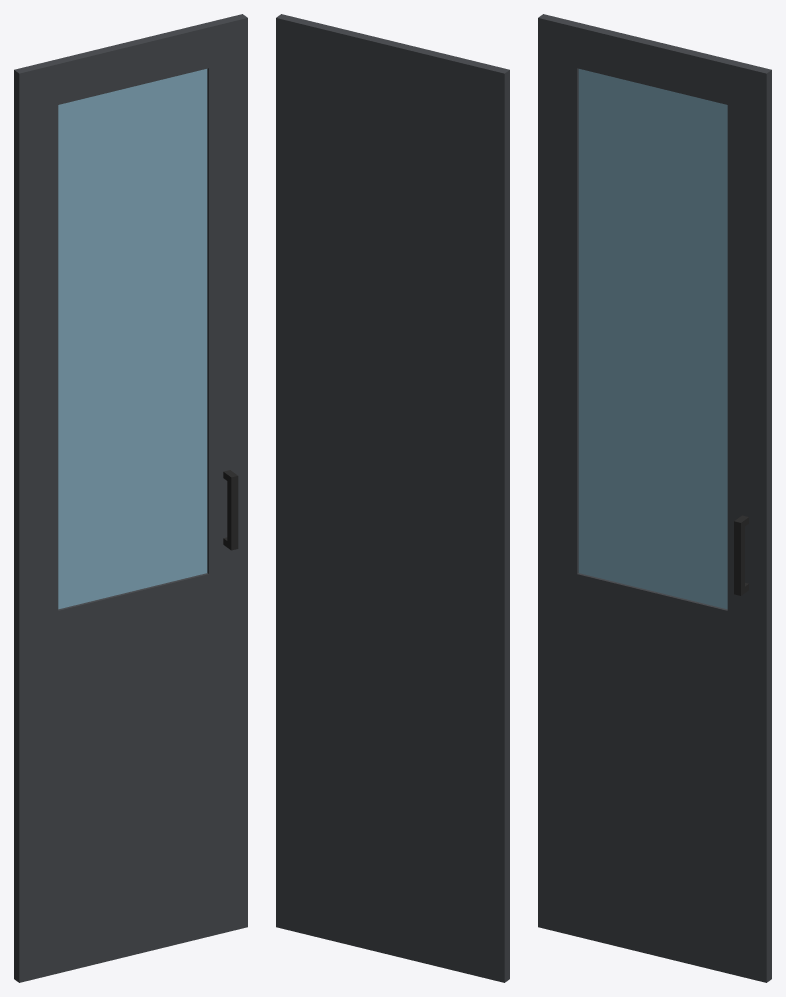
Rendered from Wardrobe1_C2_05.fbx.
3 views of the same model, side by side, from view 1: azimuth 30°, elevation 25°; view 2: azimuth 150°, elevation 25°; view 3: azimuth 330°, elevation 25° (orthographic).
Visible parts, largest first — view 1: Wardrobe1_C2_05; view 2: Wardrobe1_C2_05; view 3: Wardrobe1_C2_05.
Boxes of the visible parts, left/top/right/bottom form: Wardrobe1_C2_05: left=14, top=14, right=247, bottom=982; Wardrobe1_C2_05: left=276, top=14, right=509, bottom=982; Wardrobe1_C2_05: left=538, top=14, right=771, bottom=982.
Bounding box in the file's own units: 50 × 190 × 5.02.
